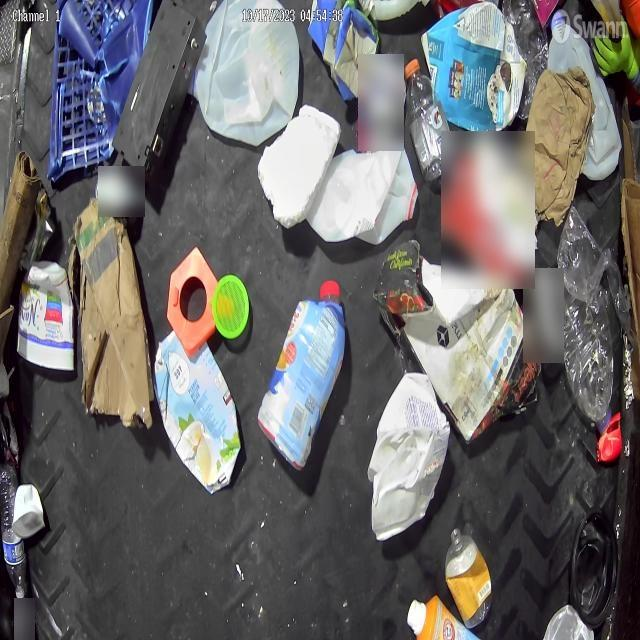milk_jug: (191, 2, 300, 147), (367, 373, 449, 541), (546, 12, 622, 182), (308, 138, 419, 248), (360, 1, 436, 24)
non_white_jug: (154, 330, 242, 494), (424, 3, 526, 134)
plastic_bottle: (558, 296, 618, 430), (404, 58, 452, 181), (0, 464, 26, 598)
